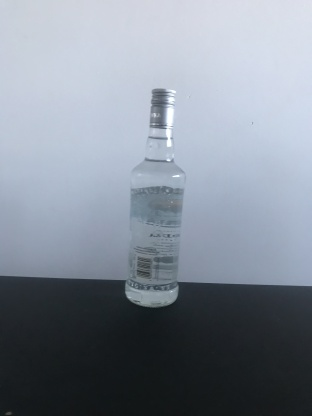nakretka: (148, 86, 176, 129)
